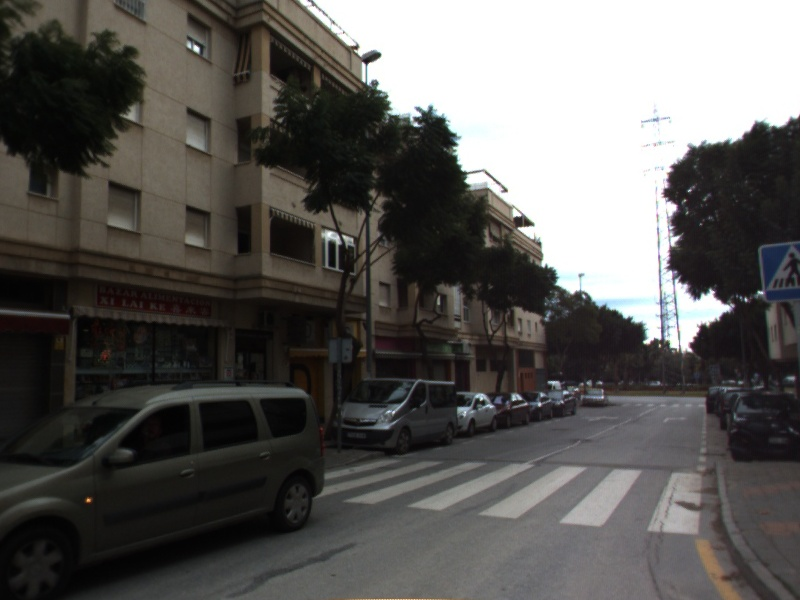RIGHT: (661, 414, 689, 424)
